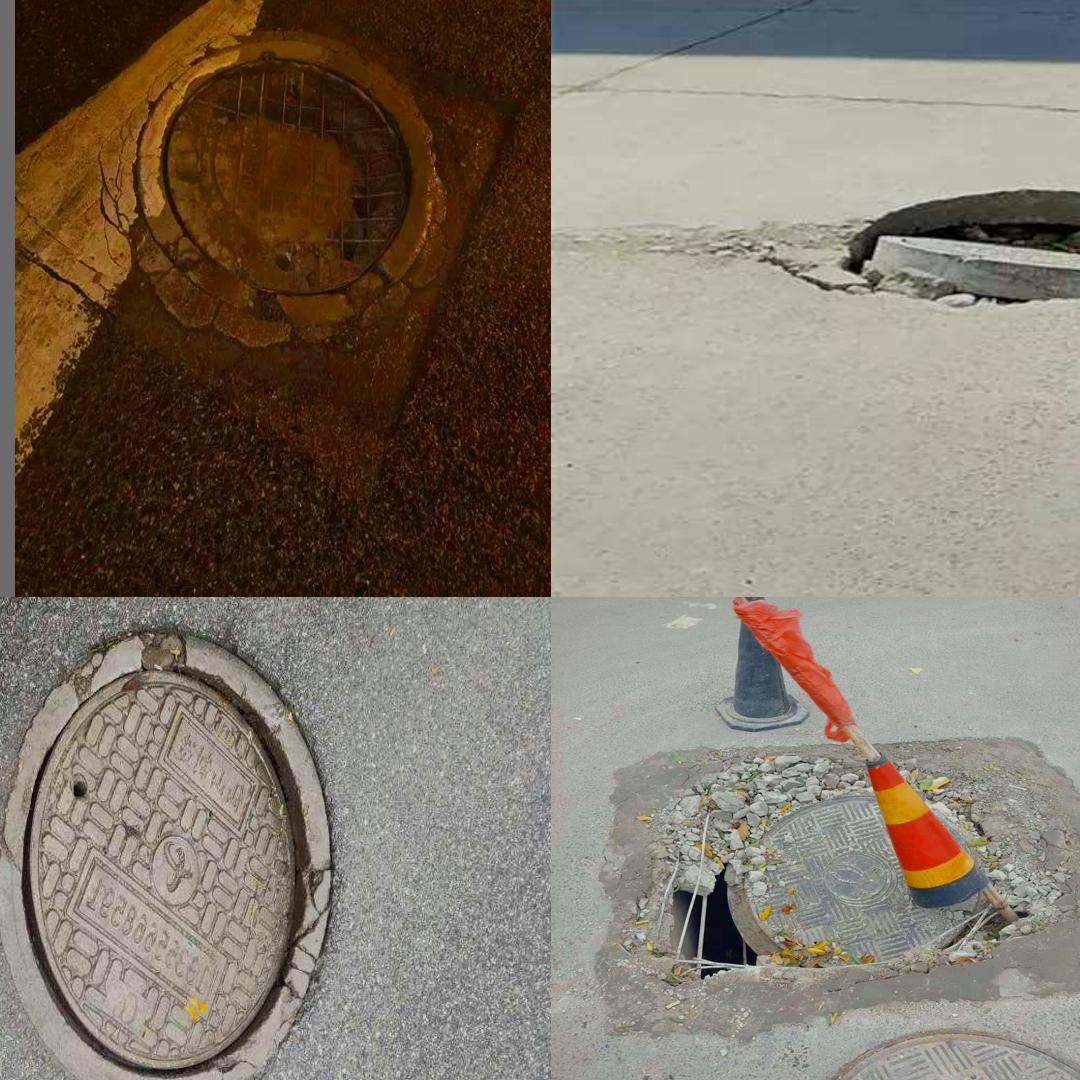circle: (53, 0, 500, 429), (0, 627, 378, 1080), (705, 172, 1080, 342), (665, 790, 1008, 969)
